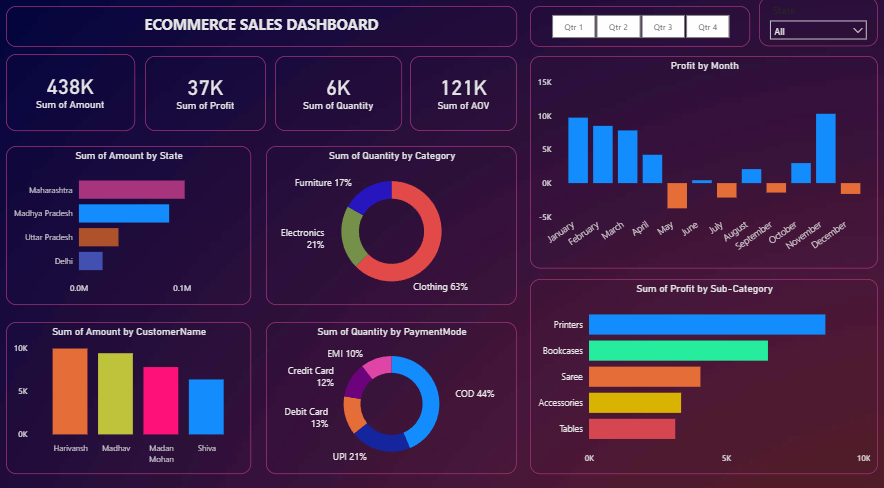

This screenshot's page, from the dashboard's own definition file:
{"tool":"powerbi","page":{"name":"Page 1","canvas":[1280,720],"ordinal":0},"visuals":[{"type":"textbox","box":[10.1,13,735.8,59],"z":0},{"type":"columnChart","title":"Profit by Month","fields":{"Y":["Sum(Details.Profit)"],"Category":["Orders.Order Date.Variation.Date Hierarchy.Month"]},"box":[764.3,84.3,501.4,305.7],"z":1000},{"type":"barChart","fields":{"Category":["Details.Sub-Category"],"Y":["Sum(Details.Profit)"]},"box":[764.3,405.7,501.4,281.4],"z":2000},{"type":"donutChart","fields":{"Category":["Details.Category"],"Y":["Sum(Details.Quantity)"]},"box":[384.3,214.3,361.4,228.6],"z":3000},{"type":"donutChart","fields":{"Category":["Details.PaymentMode","Details.Category"],"Y":["Sum(Details.Quantity)"]},"box":[384.5,468,361.4,218.9],"z":4000},{"type":"cardVisual","fields":{"Data":["Sum(Details.Amount)"]},"box":[10.1,82.1,185.8,110.9],"z":5000},{"type":"cardVisual","fields":{"Data":["Sum(Details.Profit)"]},"box":[210.2,85,174.2,108],"z":6000},{"type":"cardVisual","fields":{"Data":["Sum(Details.Quantity)"]},"box":[397.4,85,182.9,108],"z":7000},{"type":"cardVisual","fields":{"Data":["Sum(Details.AOV)"]},"box":[591.8,85,154.1,108],"z":8000},{"type":"barChart","fields":{"Y":["Sum(Details.Amount)"],"Category":["Orders.State"]},"box":[10,214.3,352.9,228.6],"z":9000},{"type":"columnChart","fields":{"Category":["Orders.CustomerName"],"Y":["Sum(Details.Amount)"]},"box":[10.1,468,352.8,218.9],"z":10000},{"type":"slicer","fields":{"Values":["Orders.Order Date.Variation.Date Hierarchy.Quarter"]},"box":[764.3,12.9,317.1,58.6],"z":11000},{"type":"slicer","fields":{"Values":["Orders.State"]},"box":[1094.3,0,171.4,71.4],"z":12000}]}

Visuals, with their boxes in screenshot pixels (x1, y1, x2, y2), scaled from the page's 1280x720 canvas onto the 884x488 screenshot:
textbox: 7,9,515,49
"Profit by Month" columnChart: 528,57,874,264
barChart - Details.Sub-Category x Sum(Details.Profit): 528,275,874,466
donutChart - Details.Category x Sum(Details.Quantity): 265,145,515,300
donutChart - Details.PaymentMode x Details.Category: 266,317,515,466
cardVisual - Sum(Details.Amount): 7,56,135,131
cardVisual - Sum(Details.Profit): 145,58,265,131
cardVisual - Sum(Details.Quantity): 274,58,401,131
cardVisual - Sum(Details.AOV): 409,58,515,131
barChart - Sum(Details.Amount) x Orders.State: 7,145,251,300
columnChart - Orders.CustomerName x Sum(Details.Amount): 7,317,251,466
slicer - Orders.Order Date.Variation.Date Hierarchy.Quarter: 528,9,747,48
slicer - Orders.State: 756,0,874,48
